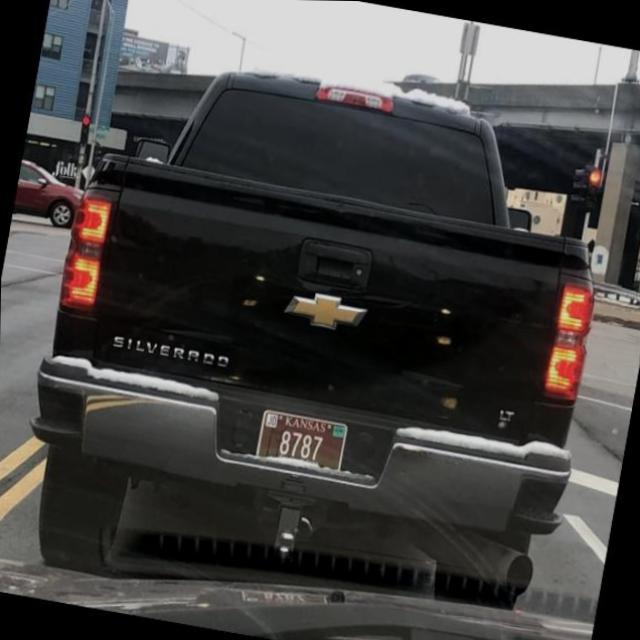LicensePlate: (255, 409, 348, 472)
